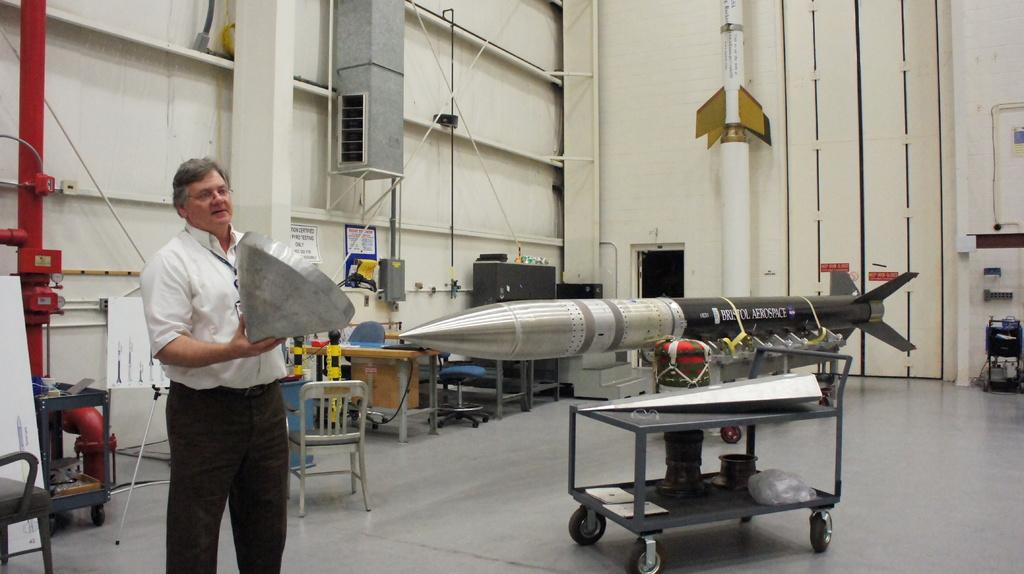Missile: (397, 268, 920, 367), (694, 0, 776, 143)
